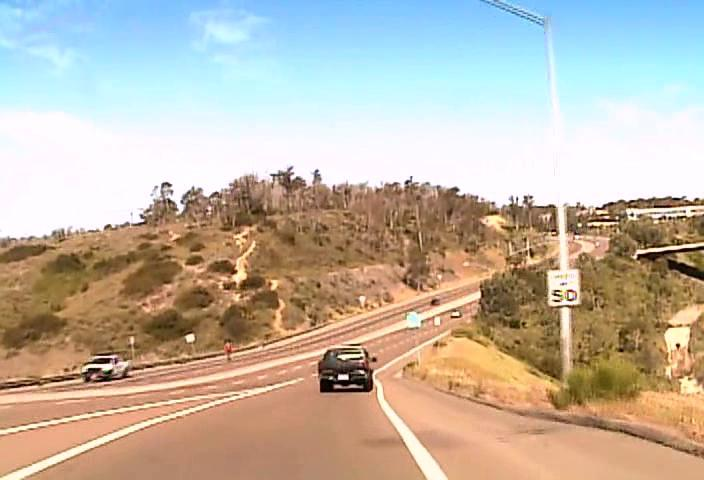speedLimit50: (546, 268, 580, 307)
